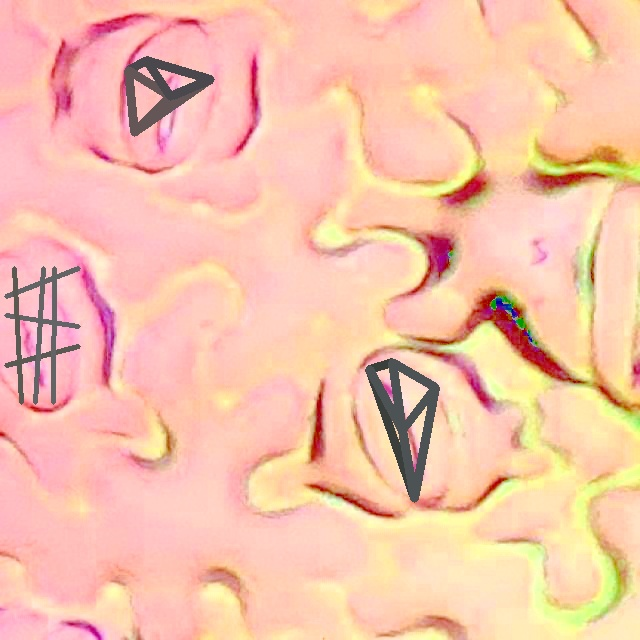open: (365, 358, 439, 502), (4, 267, 80, 404), (125, 57, 214, 136)
